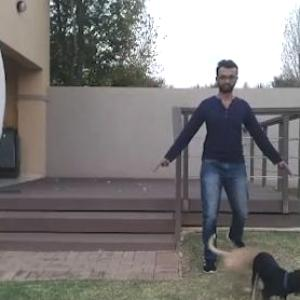land: (160, 62, 280, 268)
